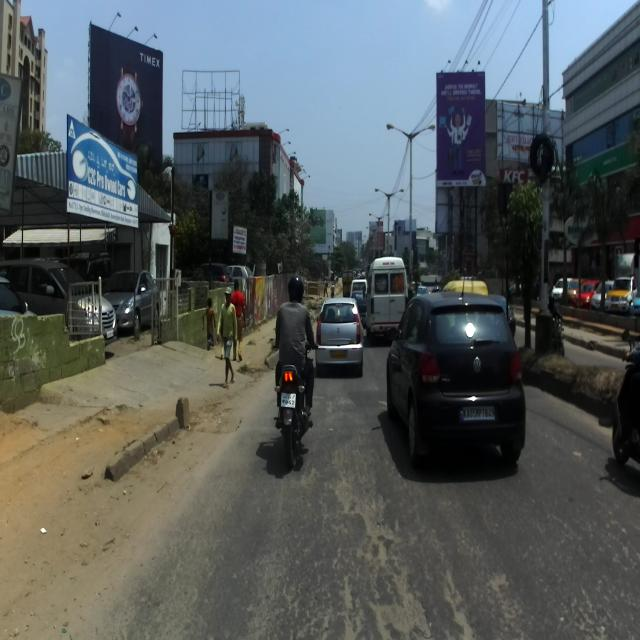car ahead at: (387, 287, 526, 470), (318, 293, 367, 378)
motorcycle ahead at: (270, 359, 318, 464)
person ahead at: (216, 285, 242, 385)
